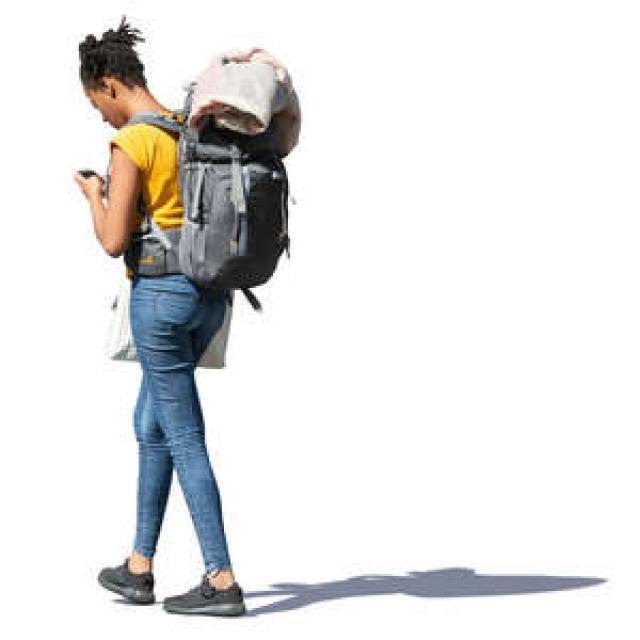Backpacks: (181, 114, 289, 290)
